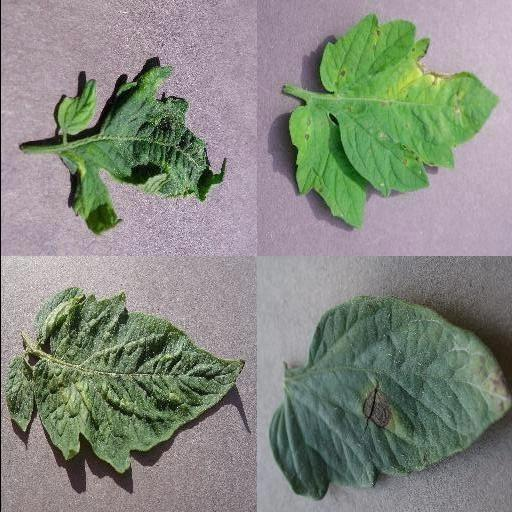Early Blight: (267, 298, 511, 502)
Mosaic Virus: (55, 62, 227, 236)
Septoria: (287, 16, 499, 228)
Spider Mites: (5, 290, 247, 472)
